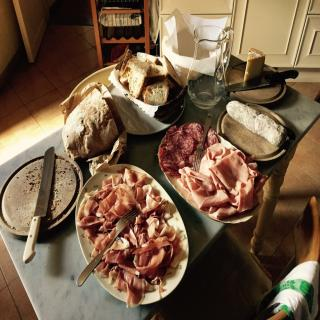Bread: (66, 80, 119, 158), (122, 49, 182, 108)
